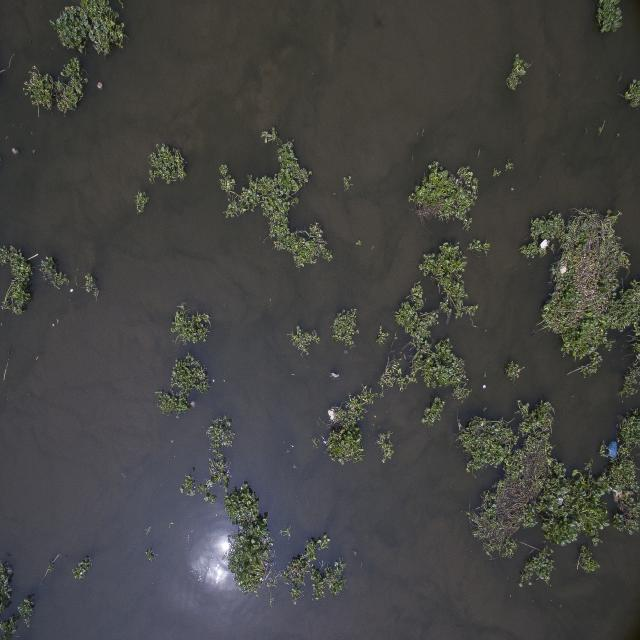plastic: (600, 440, 622, 465), (536, 229, 552, 255), (328, 406, 340, 430), (560, 261, 570, 280)
